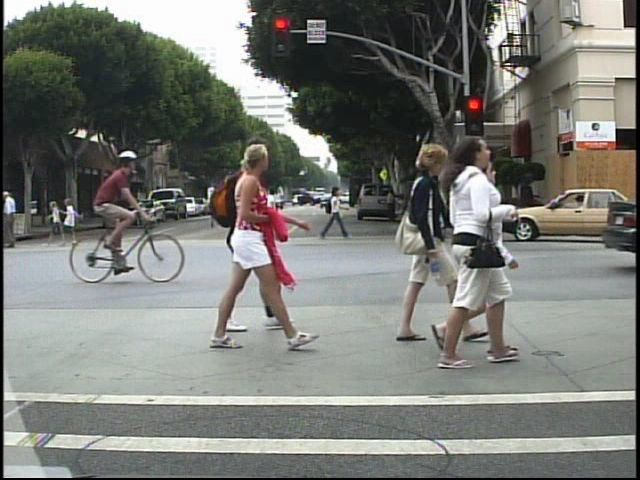person: (432, 136, 528, 376), (190, 142, 298, 349), (434, 159, 521, 361), (387, 138, 454, 350), (224, 147, 277, 342), (81, 146, 144, 276), (317, 183, 350, 245), (423, 177, 451, 239), (6, 187, 25, 251), (384, 187, 399, 223)
